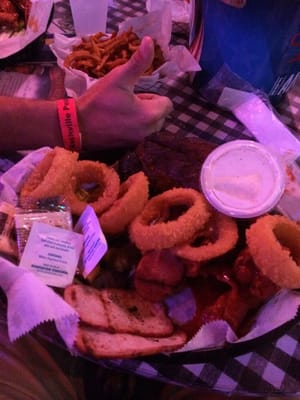salad: (63, 283, 174, 337), (128, 188, 214, 252), (245, 214, 300, 292), (99, 171, 150, 236), (134, 247, 184, 292)
